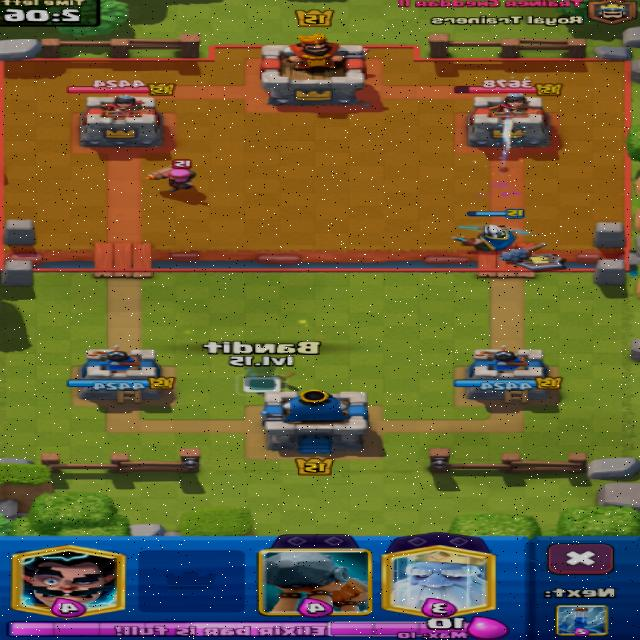Enemy-Firecracker: (144, 167, 197, 192)
Enemy-KingTower: (261, 34, 366, 106)
Enemy-PrincessTower: (465, 93, 552, 147), (81, 95, 164, 147)
Player-KingTower: (261, 389, 369, 455)
Player-MagicArcher: (454, 224, 529, 252)
Player-PrincessTower: (454, 346, 562, 404), (79, 346, 174, 404)
